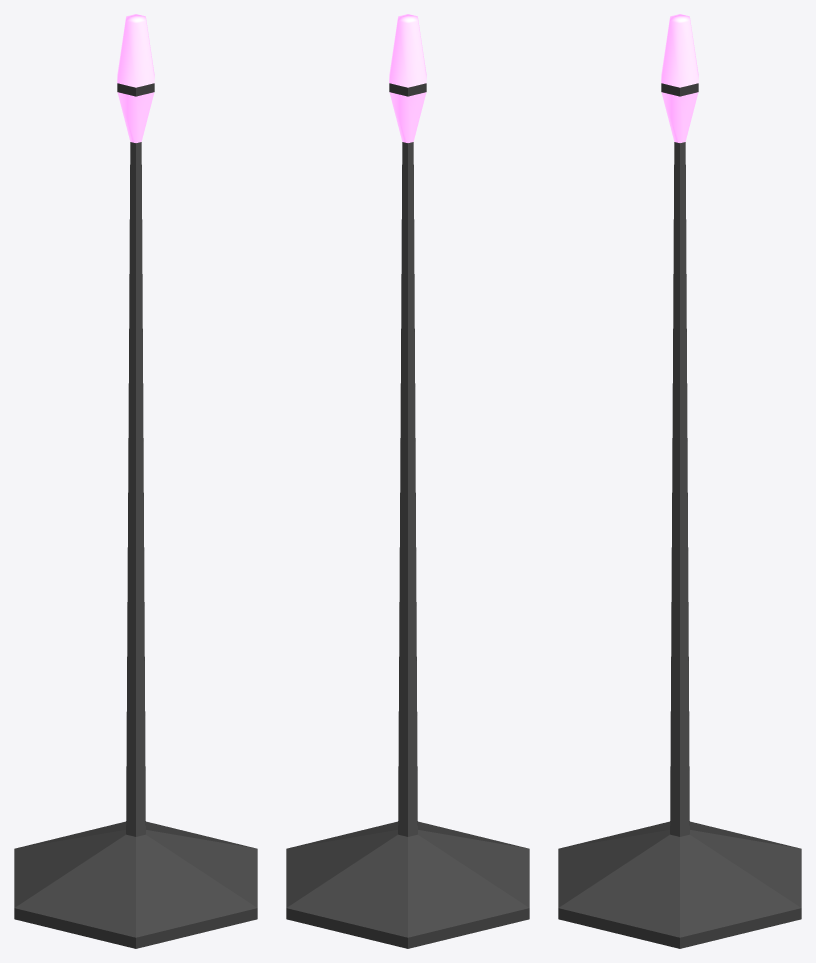
Rendered from SingleLamppost_01.fbx.
The picture shows the model from 3 angles, left to right: view 1: azimuth 30°, elevation 25°; view 2: azimuth 150°, elevation 25°; view 3: azimuth 270°, elevation 25°; orthographic projection.
Visible parts, largest first — view 1: polySurface491; view 2: polySurface491; view 3: polySurface491.
Part boxes in pixels (x1=…): polySurface491: x1=14, y1=14, x2=257, y2=948; polySurface491: x1=286, y1=14, x2=529, y2=948; polySurface491: x1=558, y1=14, x2=801, y2=948.
Size of the model in its own units: 483 by 1653 by 419.
